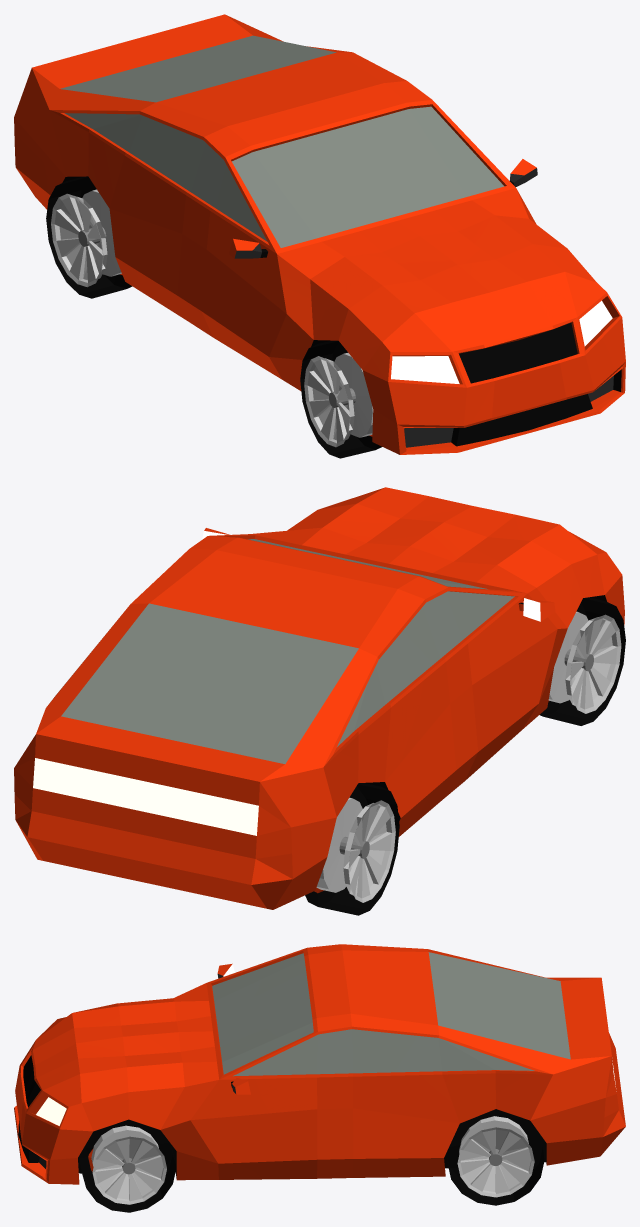
The model's file is cars1.fbx.
3 renders of one model, top to bottom at view 1: azimuth 30°, elevation 25°; view 2: azimuth 150°, elevation 25°; view 3: azimuth 270°, elevation 25°, orthographic. The views are drawn at different scales.
Visible parts, largest first — view 1: Object_4.001, Object_10.001, Object_8.002, Object_6.002, Object_5.002, Object_7.002, Object_11.002; view 2: Object_4.001, Object_10.001, Object_8.002, Object_5.002, Object_6.002, Object_7.002, Object_9.001; view 3: Object_4.001, Object_10.001, Object_8.002, Object_6.002, Object_7.002, Object_5.002.
Part boxes in pixels (bbox=[...]): Object_4.001: bbox=[14, 14, 625, 454]; Object_10.001: bbox=[60, 35, 504, 247]; Object_8.002: bbox=[51, 189, 373, 447]; Object_6.002: bbox=[46, 176, 621, 446]; Object_5.002: bbox=[391, 300, 612, 383]; Object_7.002: bbox=[300, 340, 381, 458]; Object_11.002: bbox=[234, 168, 613, 447]; Object_4.001: bbox=[14, 487, 624, 909]; Object_10.001: bbox=[61, 539, 514, 763]; Object_8.002: bbox=[316, 611, 621, 902]; Object_5.002: bbox=[33, 758, 258, 835]; Object_6.002: bbox=[305, 595, 606, 915]; Object_7.002: bbox=[540, 597, 625, 725]; Object_9.001: bbox=[339, 649, 593, 858]; Object_4.001: bbox=[14, 944, 625, 1184]; Object_10.001: bbox=[212, 952, 570, 1076]; Object_8.002: bbox=[91, 1116, 534, 1204]; Object_6.002: bbox=[18, 1055, 546, 1205]; Object_7.002: bbox=[79, 1144, 176, 1212]; Object_5.002: bbox=[36, 1060, 616, 1125].
Size of the model in its own units: 208 by 138 by 437.
